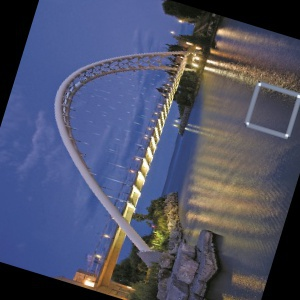square: (242, 79, 300, 140)
